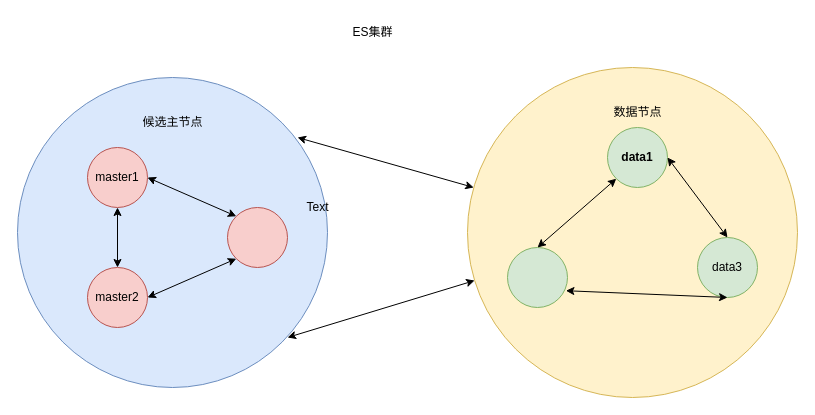
This 815x415 diagram has some shape labels left out. Here are the shapes that lost their labels. From the top down, the box of each, then its label:
(226, 206, 288, 268): master3
(506, 246, 568, 308): data2
